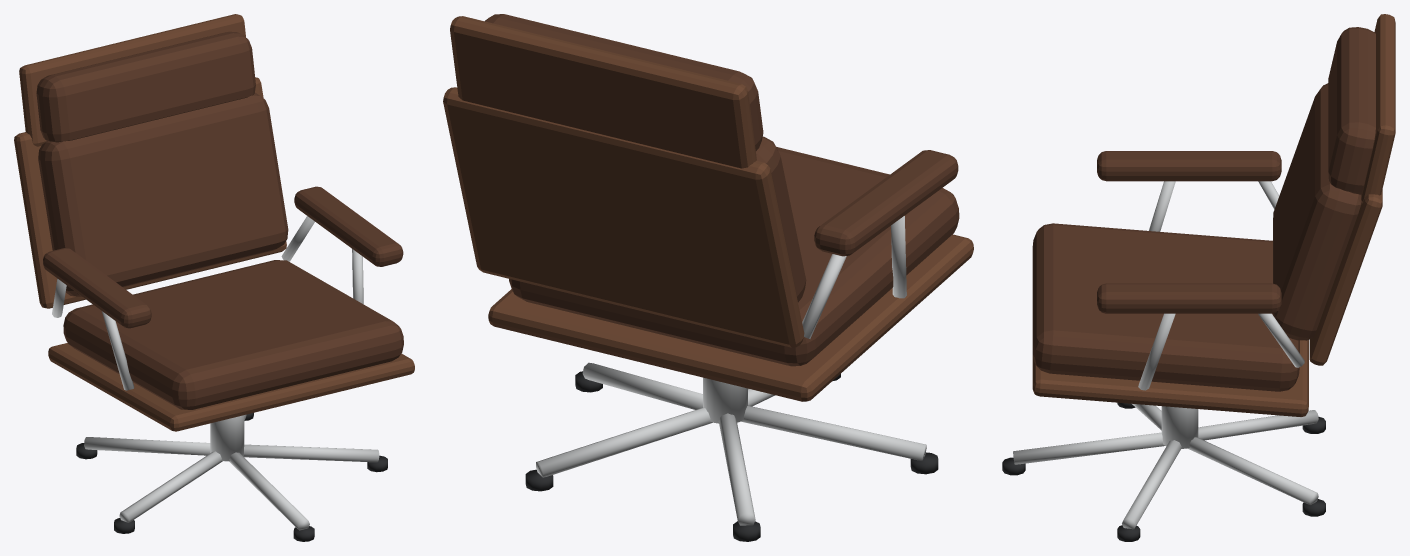
Rendered from armchairDesign.glb.
The picture shows the model from 3 angles, left to right: view 1: azimuth 30°, elevation 25°; view 2: azimuth 150°, elevation 25°; view 3: azimuth 270°, elevation 25°; orthographic projection. The views are drawn at different scales.
Parts seen in each view (by area): view 1: armchairDesign; view 2: armchairDesign; view 3: armchairDesign.
Part boxes in pixels (<box>): armchairDesign: <box>14,14,414,541</box>; armchairDesign: <box>443,14,973,541</box>; armchairDesign: <box>1002,14,1395,541</box>.
Size of the model in its own units: 0.76 by 0.9589 by 0.8522.
